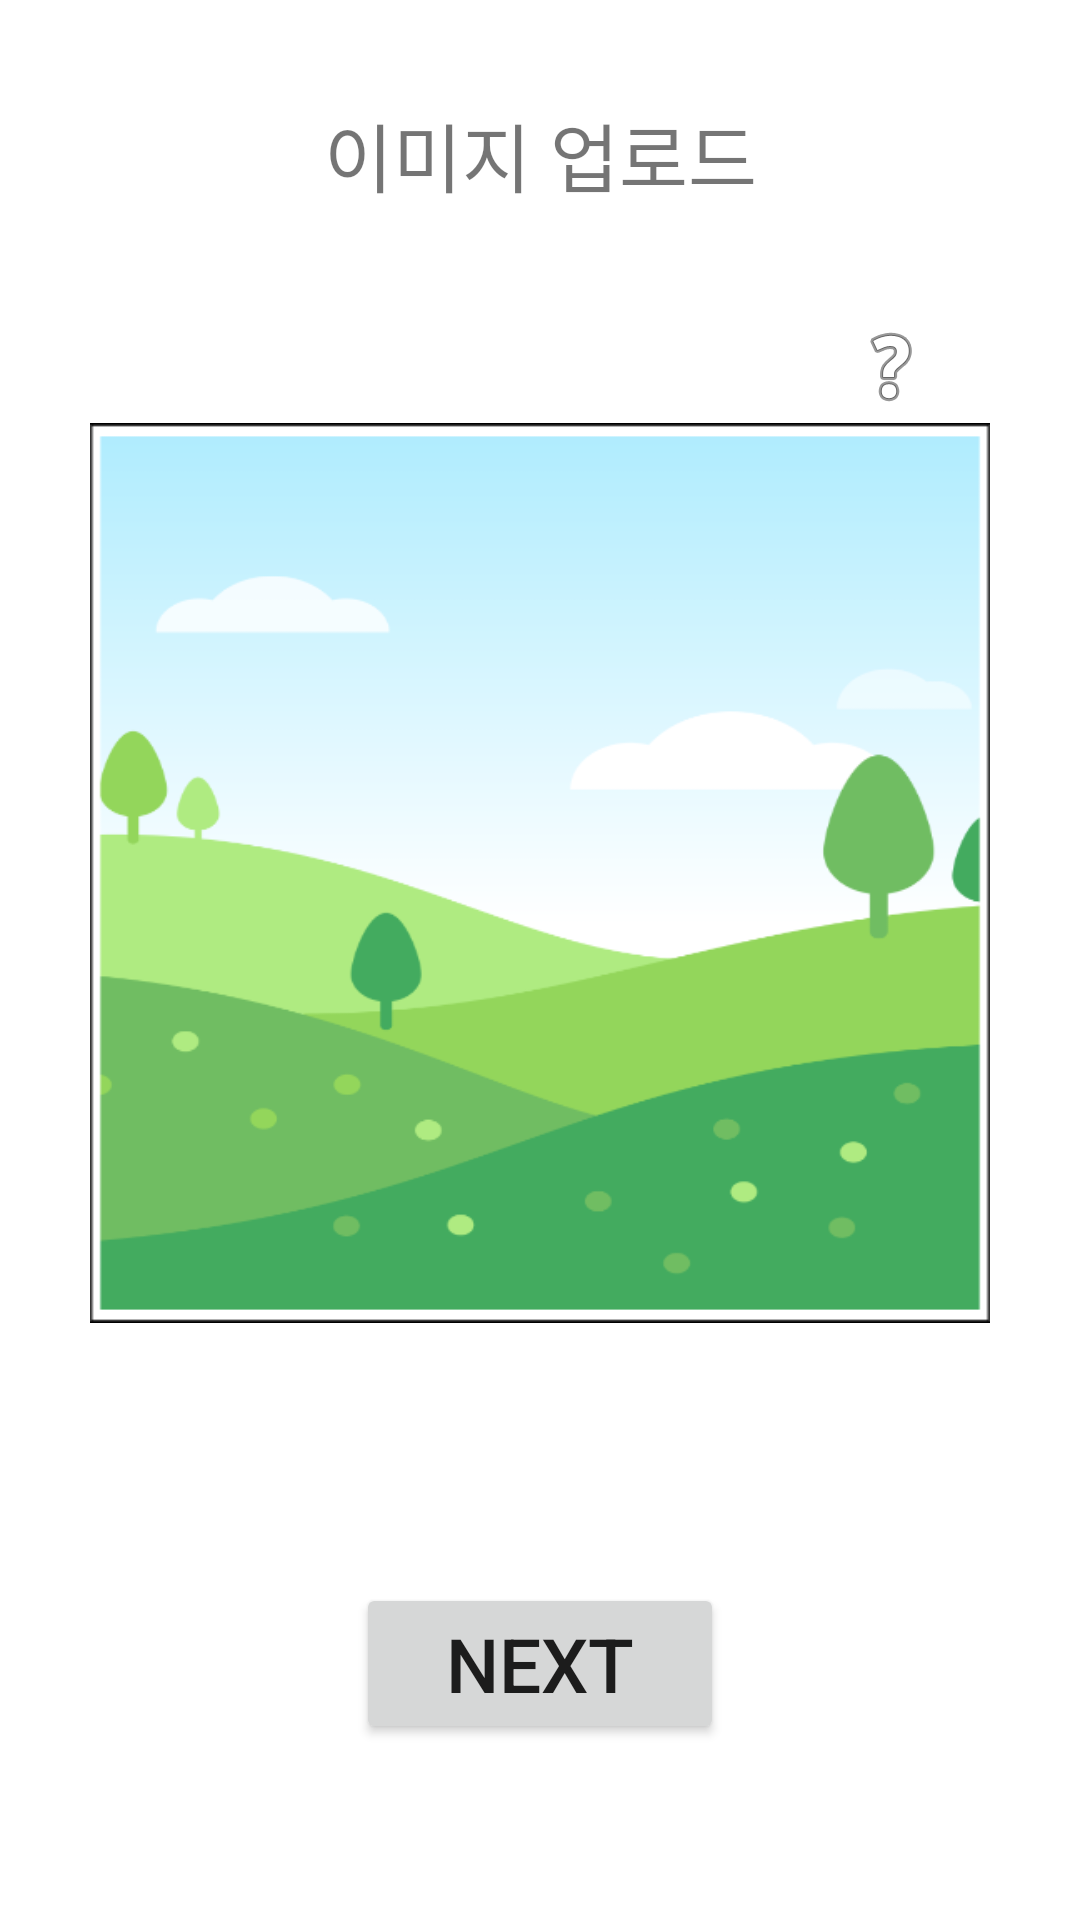

Locate icon controls on the screen. Image size 1080w x 1920h, boxes as box(x1, y1, x2, y2).
help: box(870, 333, 912, 401)
